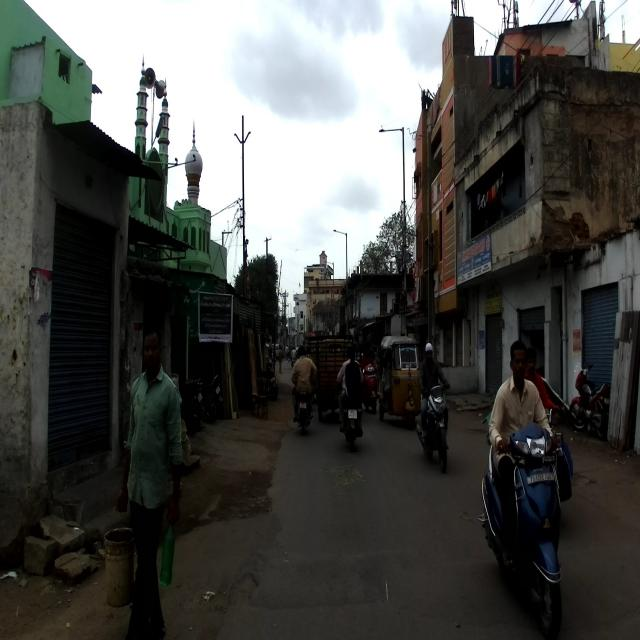motorcycle: (415, 382, 452, 473), (566, 363, 610, 438), (337, 368, 365, 452), (294, 381, 312, 436)
scooter: (480, 402, 568, 618)
